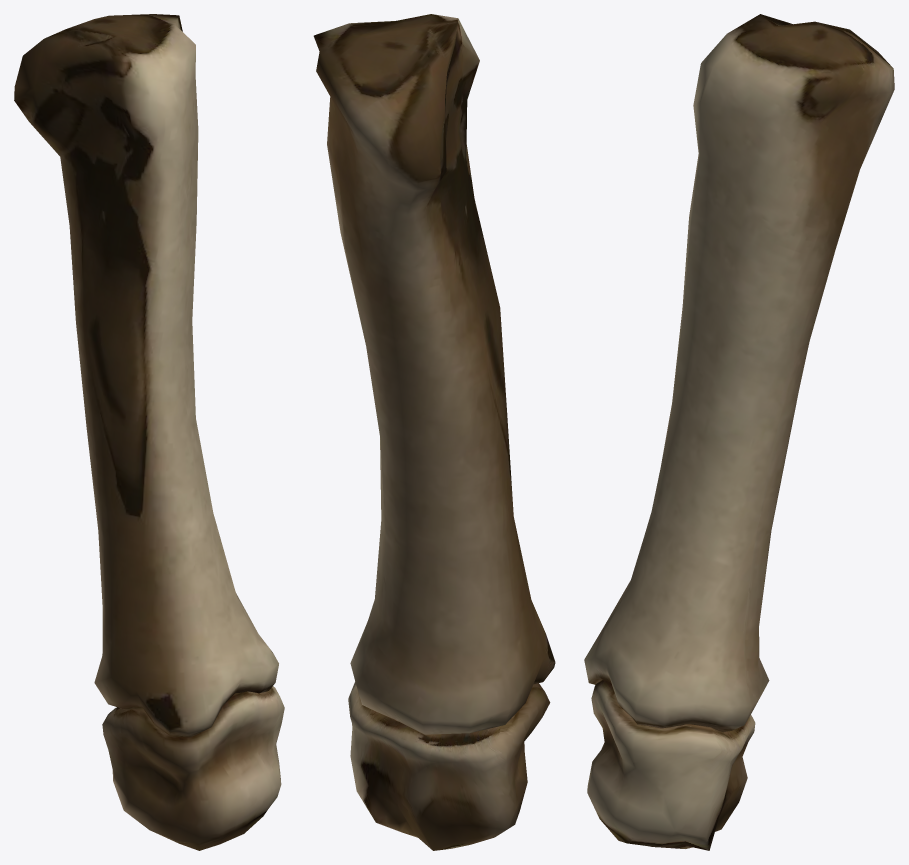
File: Metacarpal_II.glb
3 views of the same model, side by side, from view 1: azimuth 30°, elevation 25°; view 2: azimuth 150°, elevation 25°; view 3: azimuth 270°, elevation 25° (orthographic). The views are drawn at different scales.
Parts seen in each view (by area): view 1: Metacarpal_II_Right1:Group43283; view 2: Metacarpal_II_Right1:Group43283; view 3: Metacarpal_II_Right1:Group43283.
Part boxes in pixels (x1,y1,x2,y2): Metacarpal_II_Right1:Group43283: (14,14,284,850); Metacarpal_II_Right1:Group43283: (313,14,555,850); Metacarpal_II_Right1:Group43283: (584,14,894,850).
Size of the model in its own units: 10.73 by 48.54 by 16.95.
Materials: 1 (1 with a texture image).
